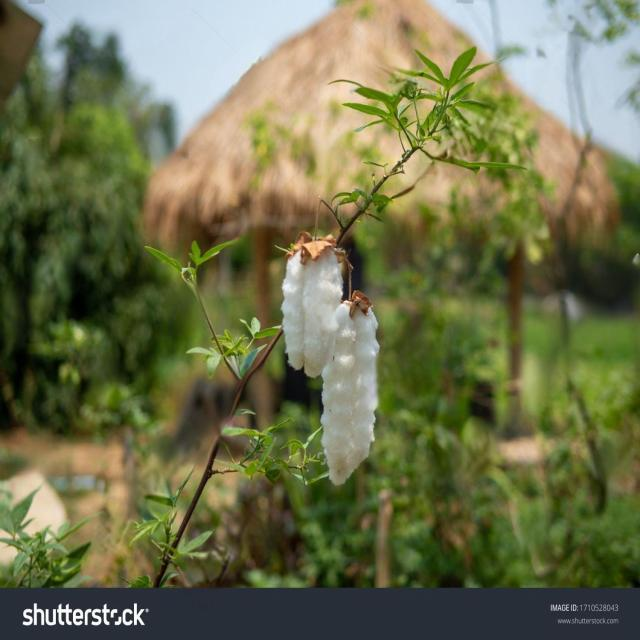Leaf: (309, 294, 395, 498), (270, 240, 357, 392)
